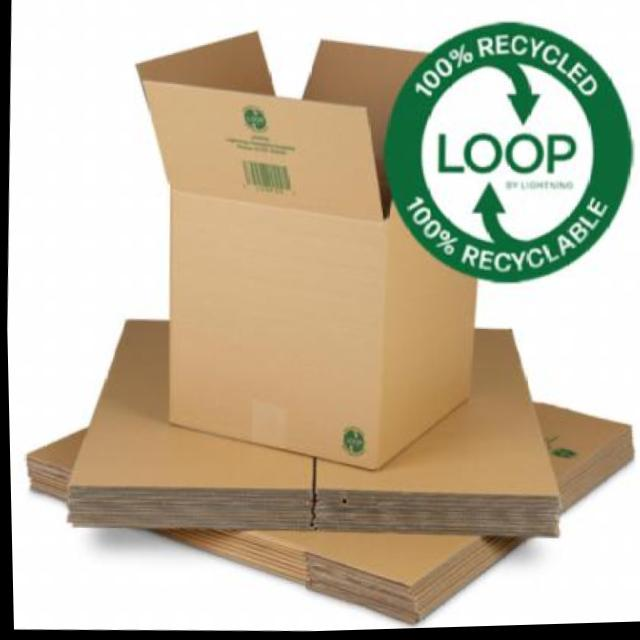box: (111, 24, 505, 486), (16, 369, 640, 640), (59, 273, 572, 563)
